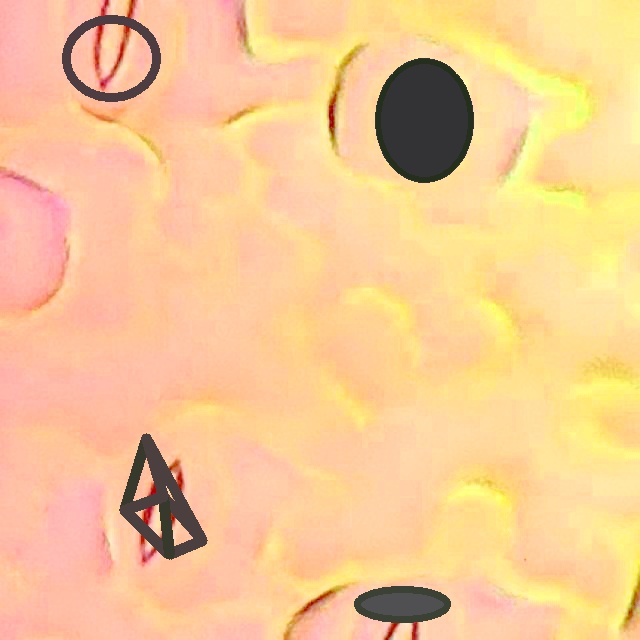open: (376, 57, 473, 182), (119, 433, 207, 559), (61, 14, 162, 102), (355, 585, 449, 622)
